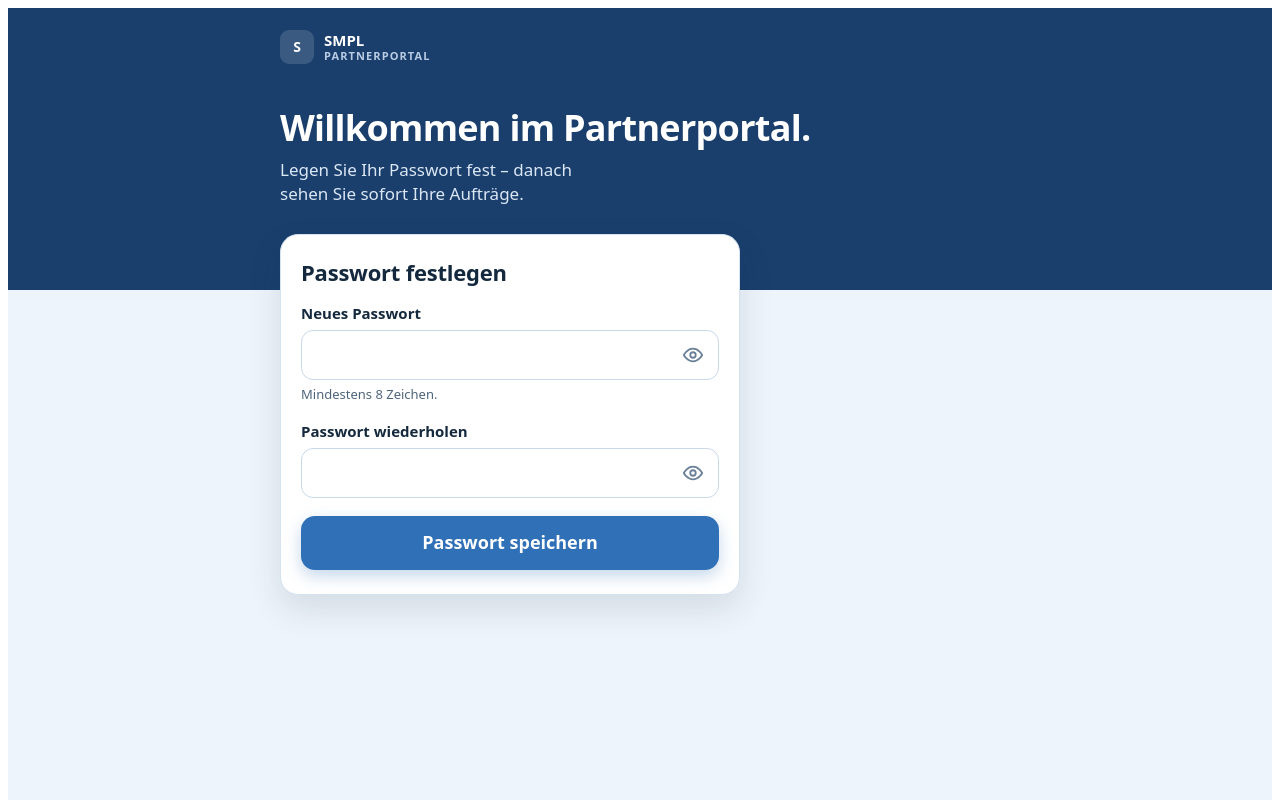
Test case: PortalApp › sets the password from the invite link and signs straight in
The width and height of the screenshot is (1280, 800).
Type "Dachrinne2026!" into the password field labelled "Neues Passwort Mindestens 8 Zeichen.".
click(510, 355); type("Dachrinne2026!")  # box [301,330,719,380]
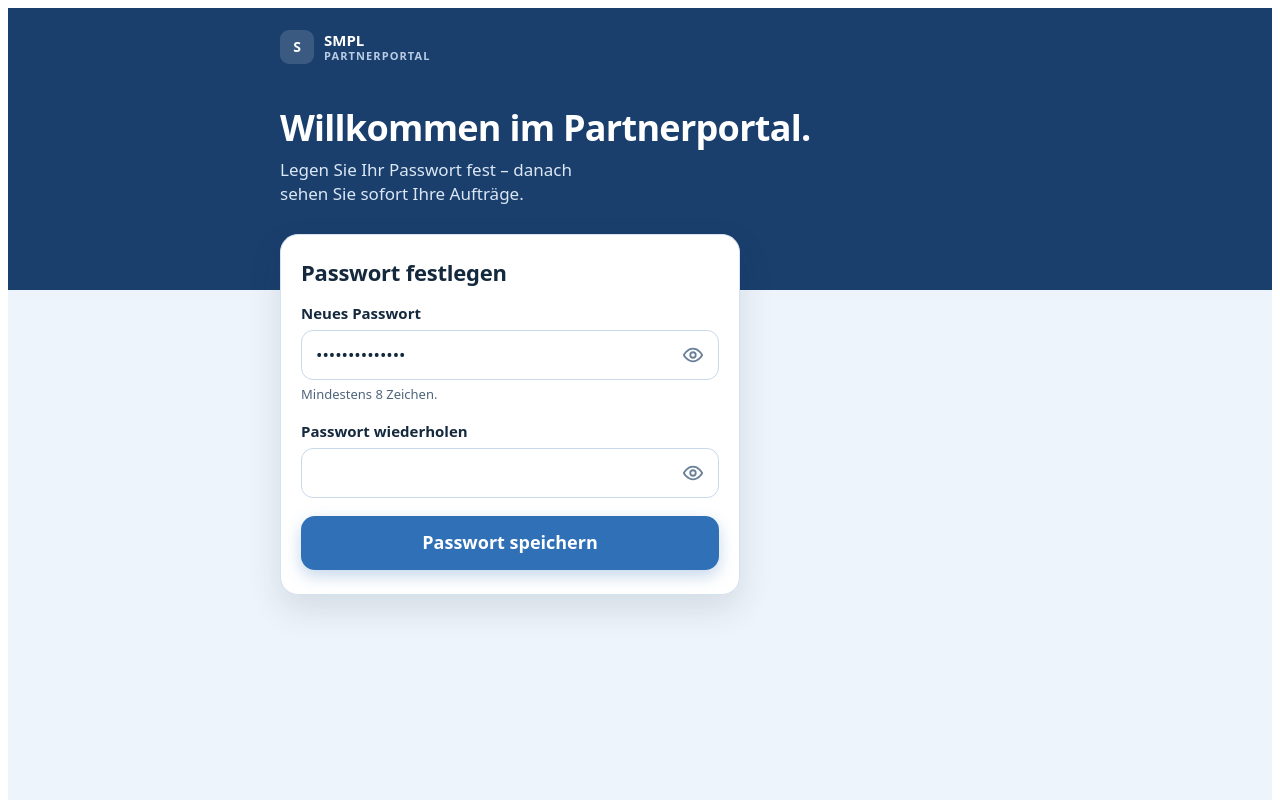
Type "anders123" into the password field labelled "Passwort wiederholen".
click(510, 473); type("anders123")  # box [301,448,719,498]
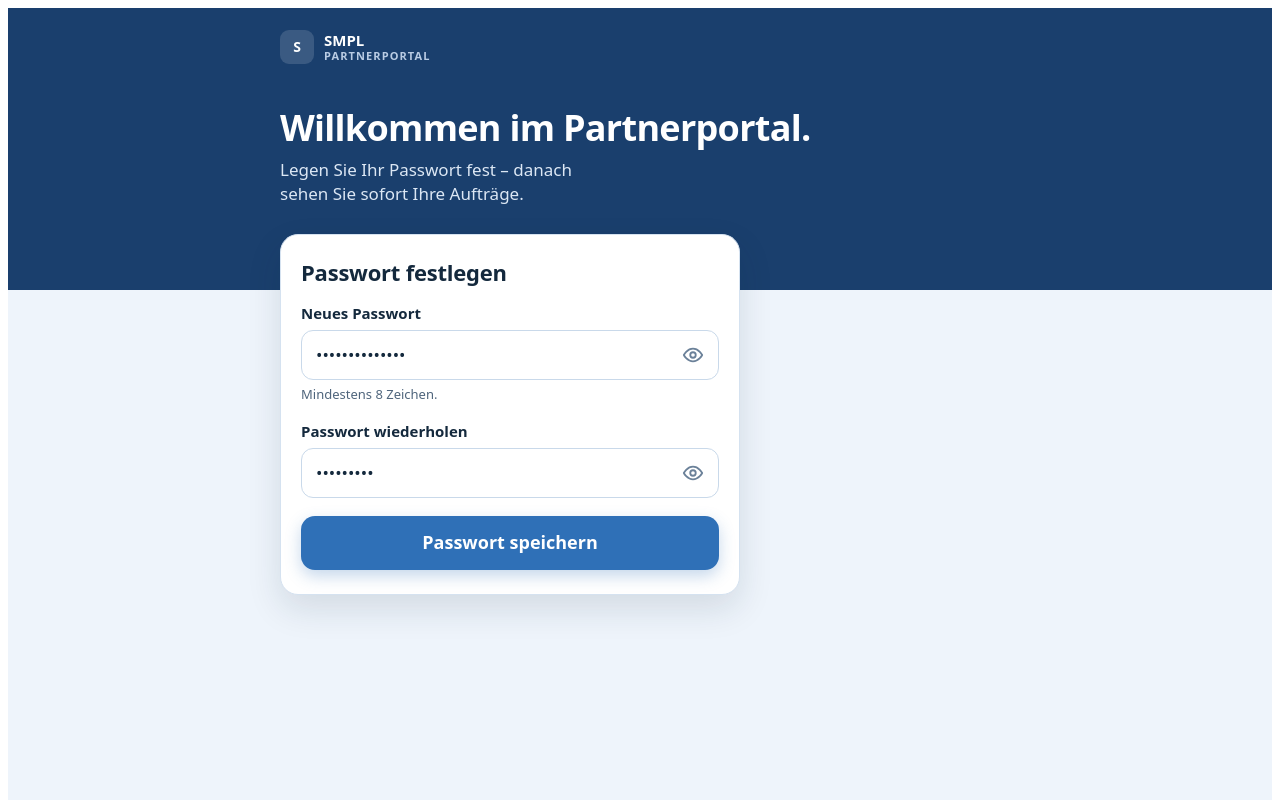
Click the button "Passwort speichern".
click(510, 543)  # box [301,516,719,570]
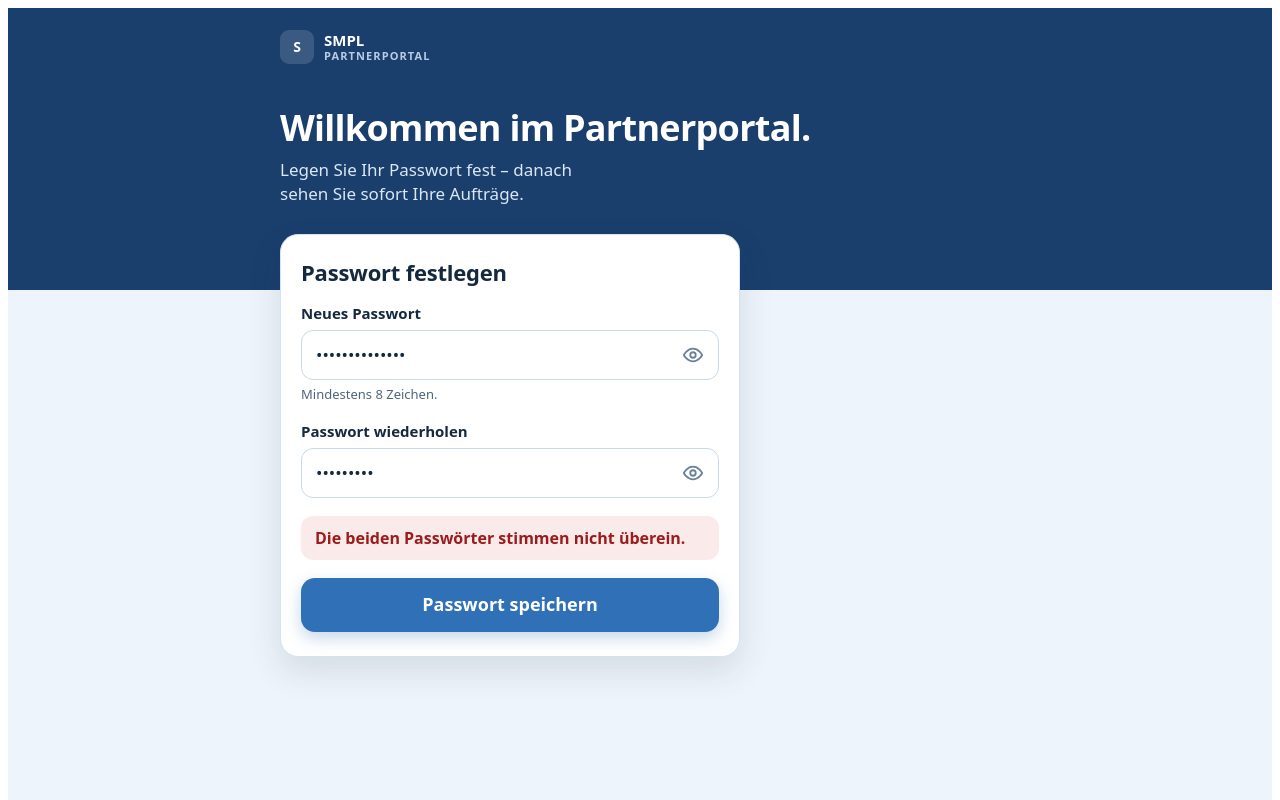
Now the message shows "stimmen nicht überein", box [315,527,685,549]
Type "Dachrinne2026!" into the password field labelled "Passwort wiederholen".
click(510, 473); type("Dachrinne2026!")  # box [301,448,719,498]
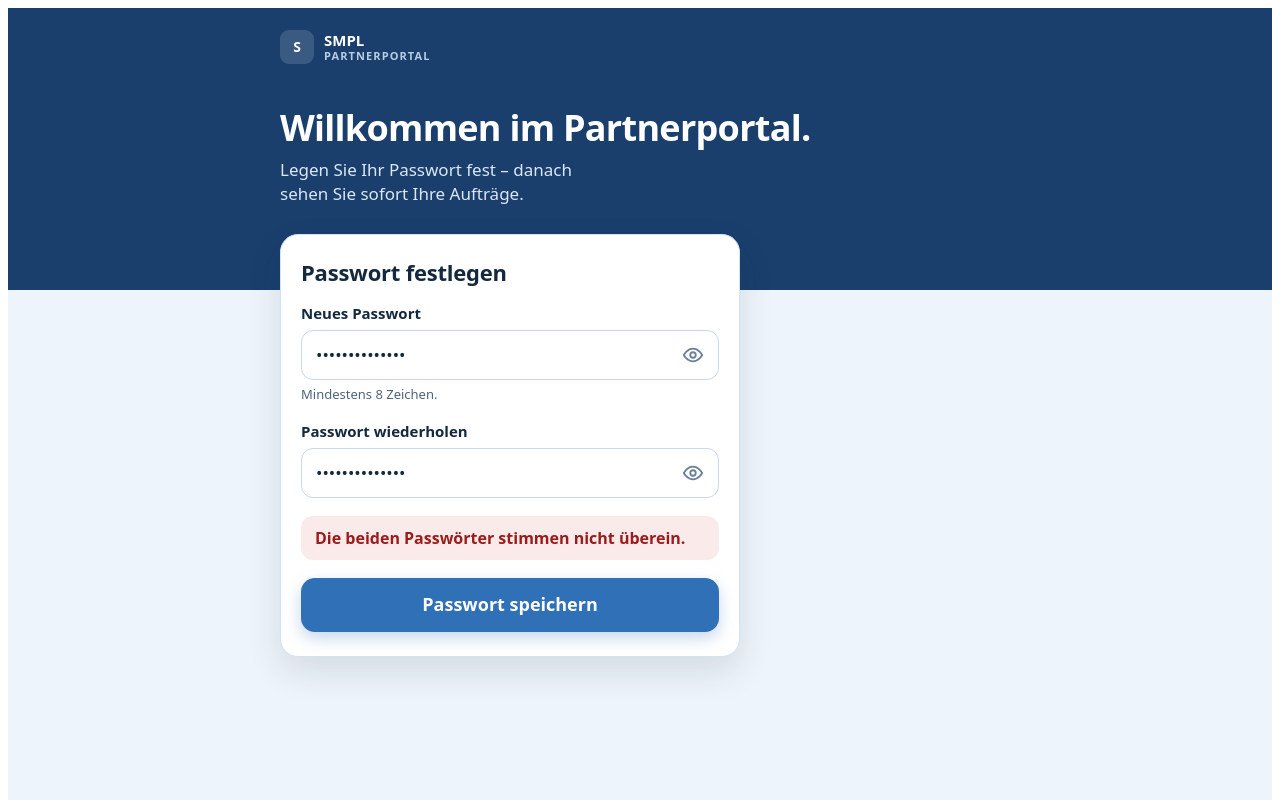
Click the button "Passwort speichern".
click(510, 605)  # box [301,578,719,632]
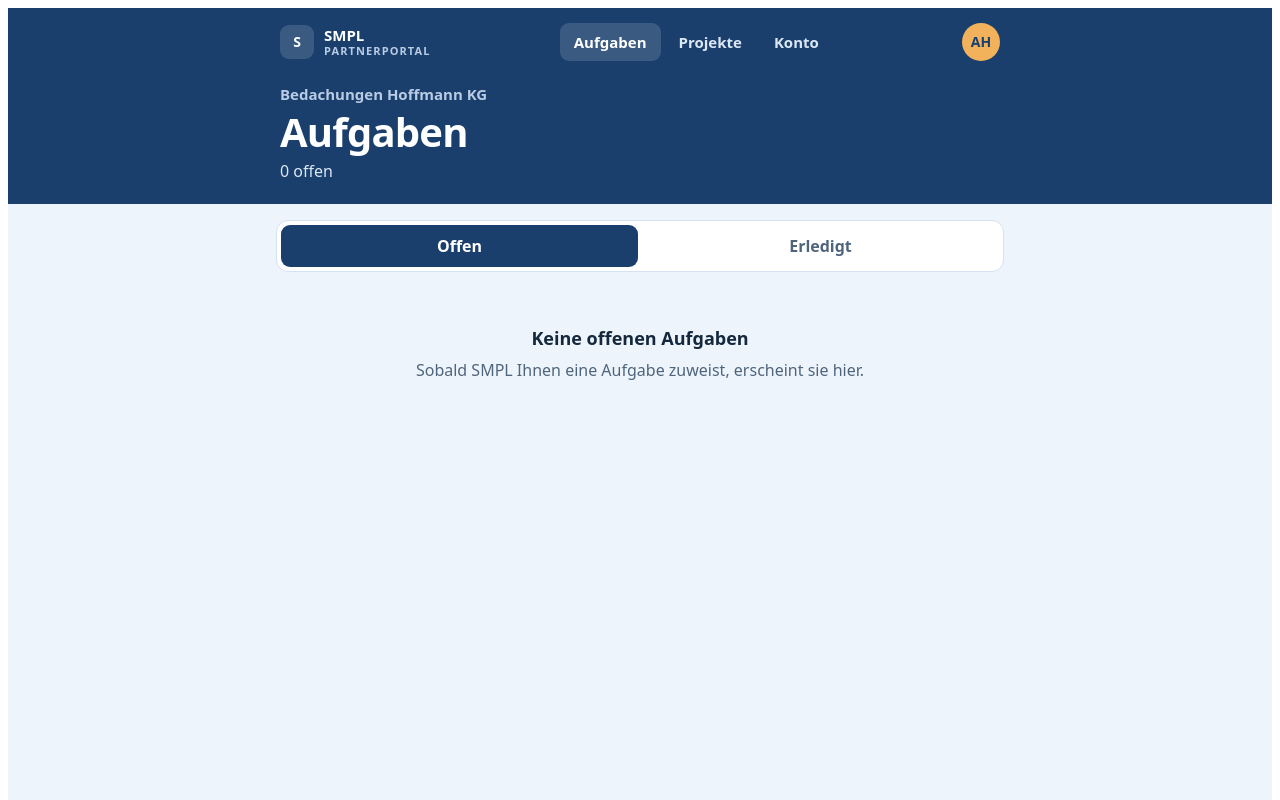
Now the text "Keine offenen Aufgaben" is shown, box [531,326,749,351]
